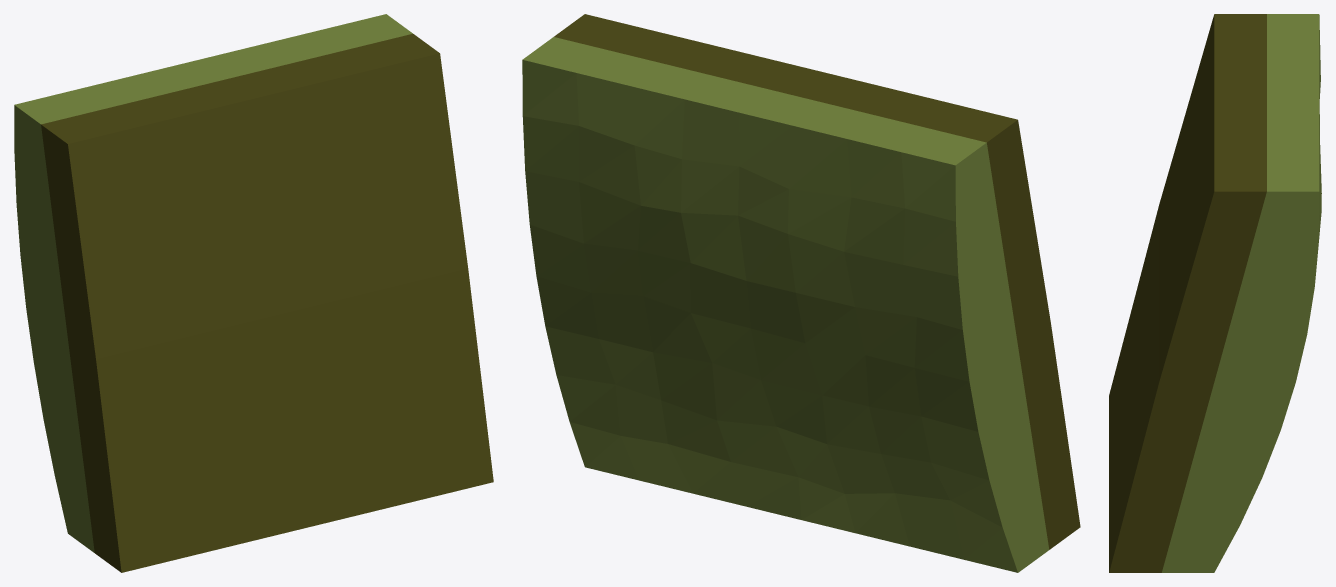
Rendered from Slope_Top.fbx.
The picture shows the model from 3 angles, left to right: view 1: azimuth 30°, elevation 25°; view 2: azimuth 150°, elevation 25°; view 3: azimuth 270°, elevation 25°; orthographic projection. The views are drawn at different scales.
Parts seen in each view (by area): view 1: Slope_Top; view 2: Slope_Top; view 3: Slope_Top.
Part boxes in pixels (bbox=[...]): Slope_Top: bbox=[14, 14, 493, 572]; Slope_Top: bbox=[522, 14, 1080, 572]; Slope_Top: bbox=[1109, 14, 1321, 572].
Size of the model in its own units: 400 by 400 by 202.
